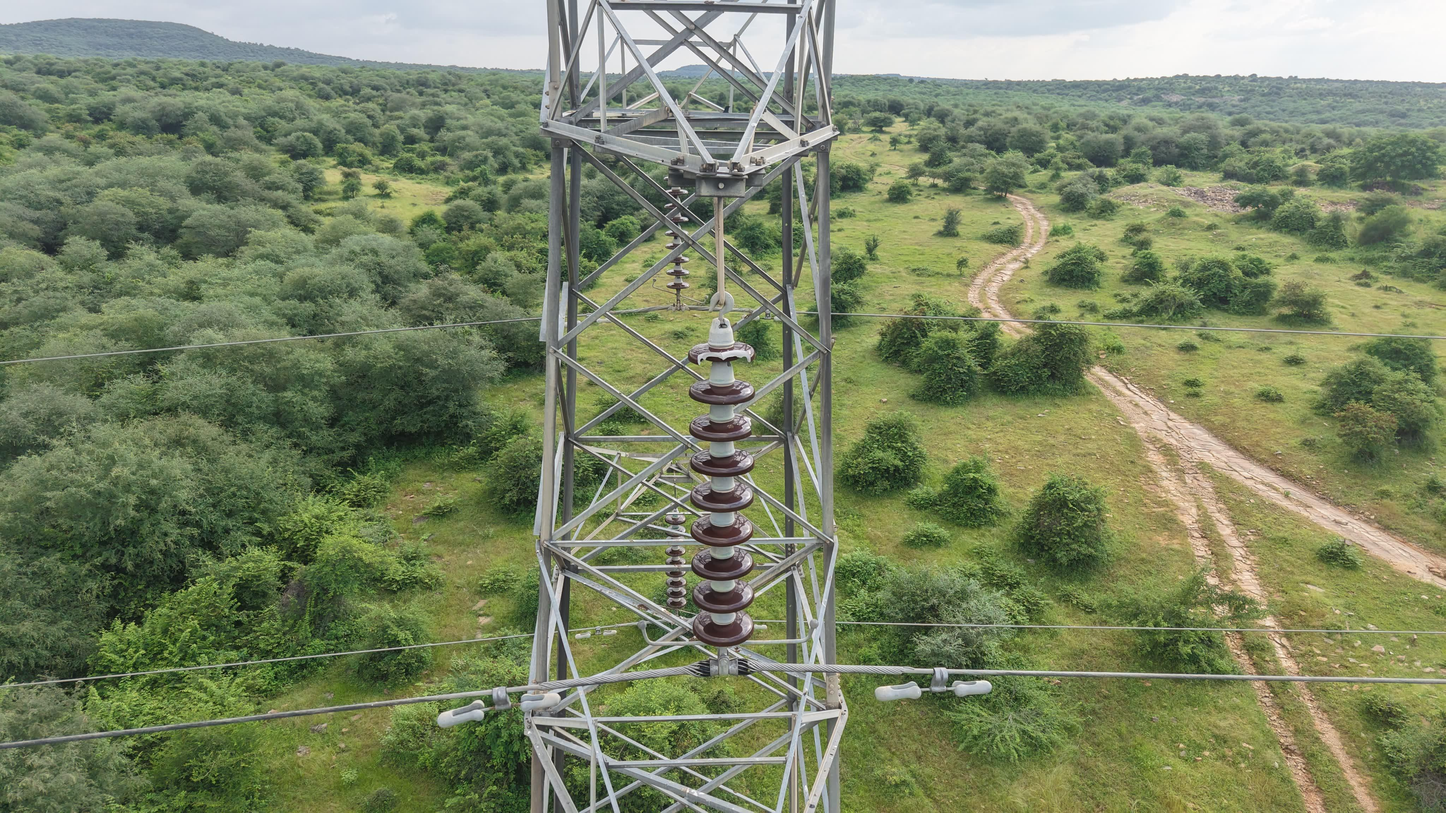broken_insulator: (684, 336, 761, 371)
